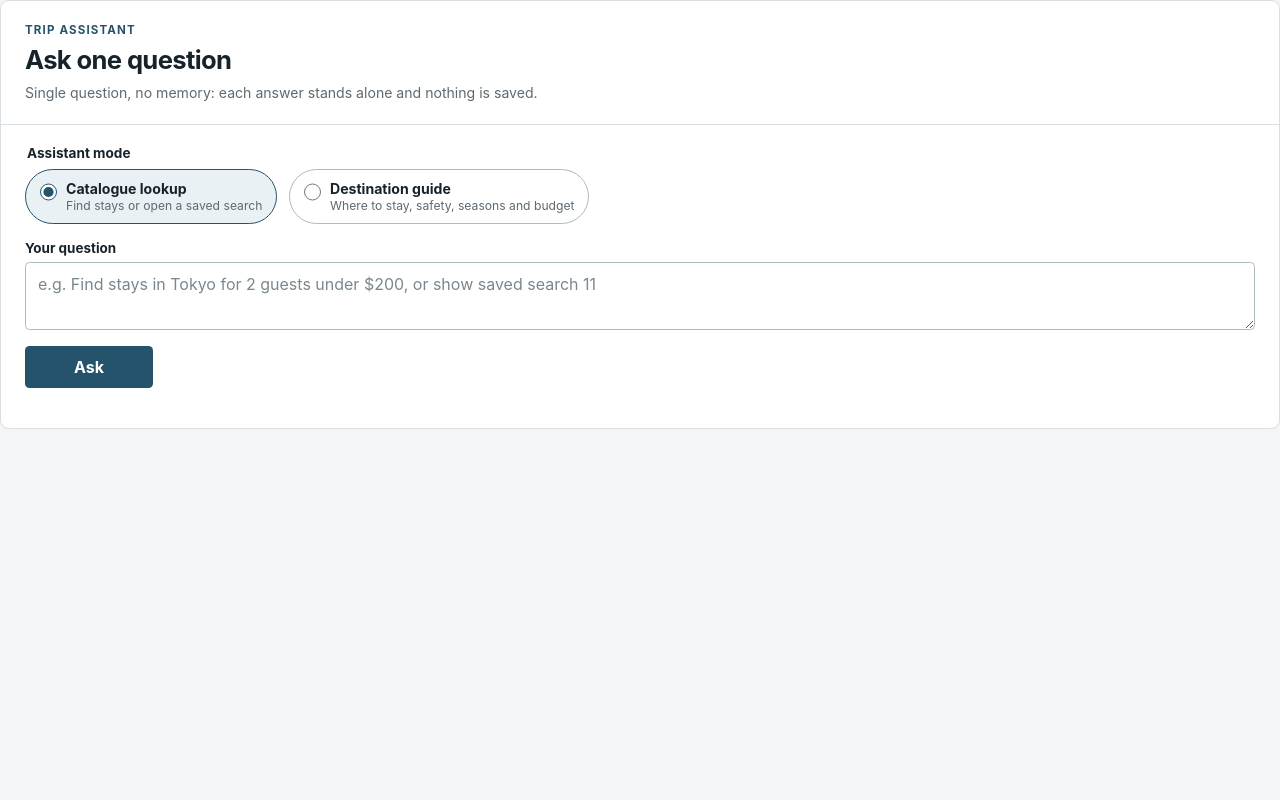
AssistantPanel › renders a saved search lookup
Replace the text in the text box with id "assistant-question" with "Show saved search 11" at [640, 296], box [25, 262, 1255, 330]
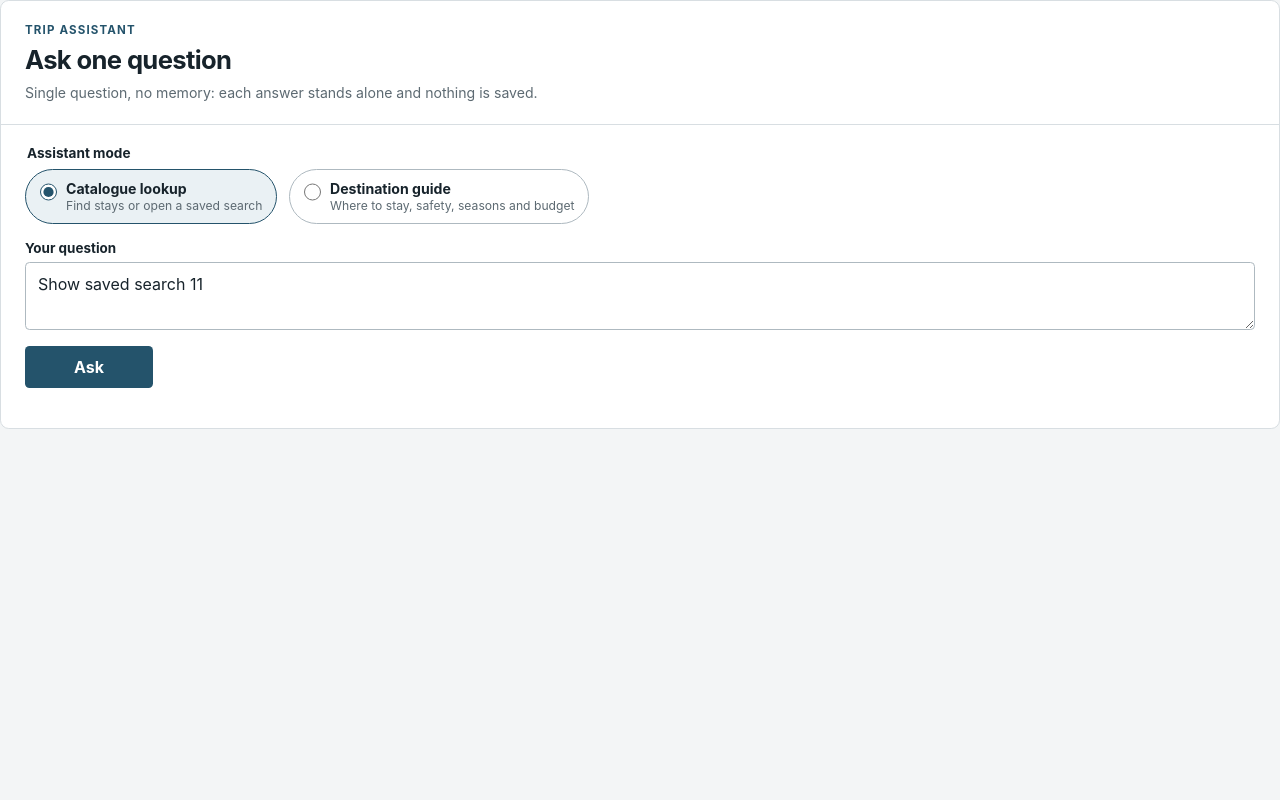
Click the button with class "assistant-submit".
click(89, 367)  # box [25, 346, 153, 388]
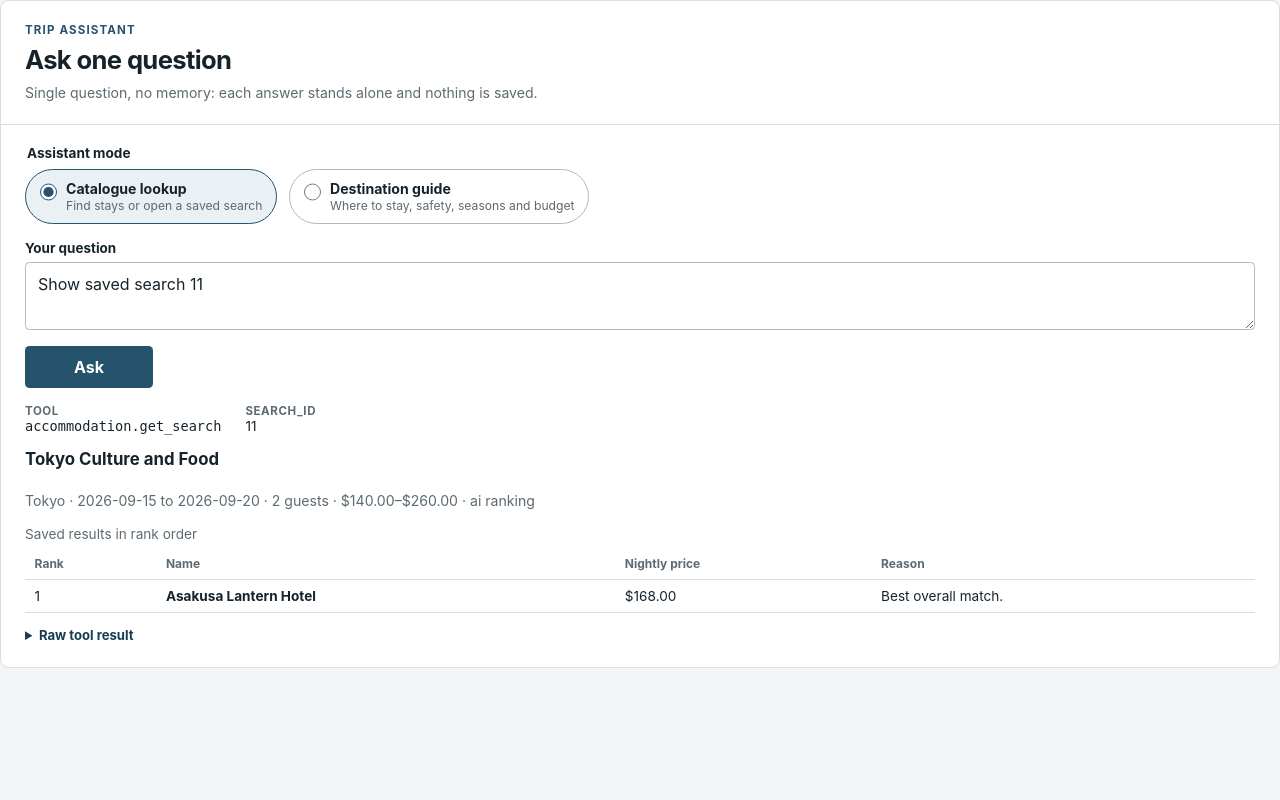
Expected: the text "accommodation.get_search" is shown, [25, 418, 221, 434]
Expected: the text "Tokyo Culture and Food" is shown, [25, 449, 219, 469]
Expected: the text "Asakusa Lantern Hotel" is shown, [156, 580, 615, 613]
